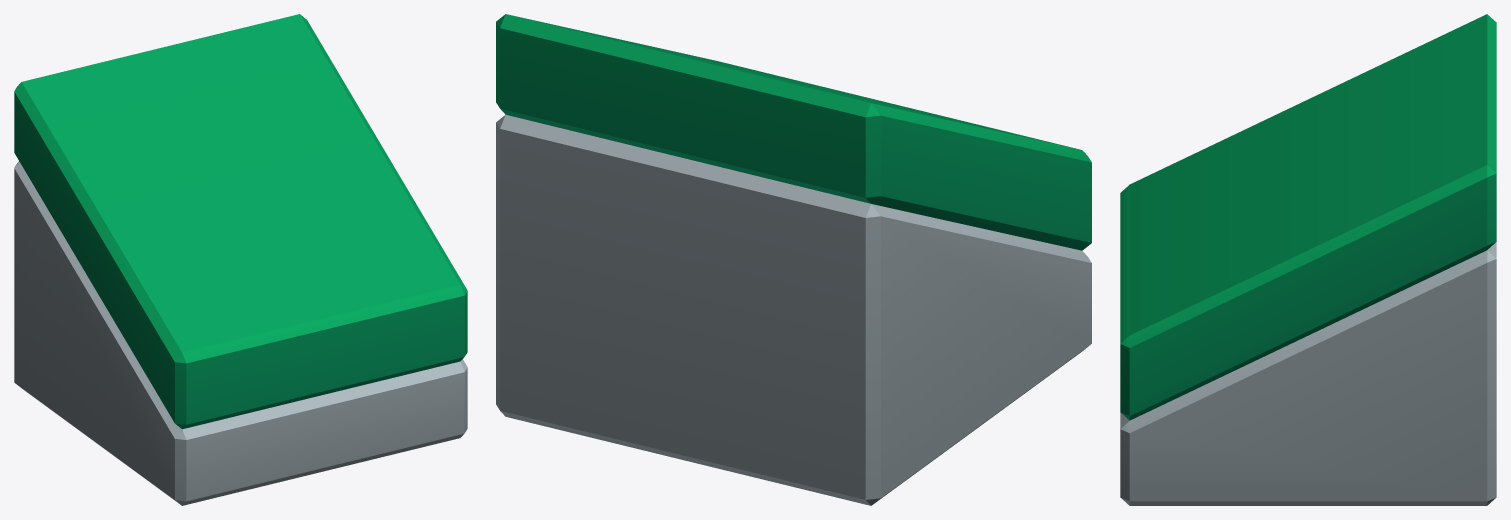
File: platform_slope_2x2x2_green.glb
The picture shows the model from 3 angles, left to right: view 1: azimuth 30°, elevation 25°; view 2: azimuth 150°, elevation 25°; view 3: azimuth 270°, elevation 25°; orthographic projection. The views are drawn at different scales.
Parts seen in each view (by area): view 1: platform_slope_2x2x2_green; view 2: platform_slope_2x2x2_green; view 3: platform_slope_2x2x2_green.
Boxes of the visible parts, left/top/right/bottom form: platform_slope_2x2x2_green: left=14, top=14, right=467, bottom=505; platform_slope_2x2x2_green: left=496, top=14, right=1091, bottom=505; platform_slope_2x2x2_green: left=1120, top=14, right=1496, bottom=505.
Size of the model in its own units: 2 by 2 by 2.
Materials: 1 (1 with a texture image).
